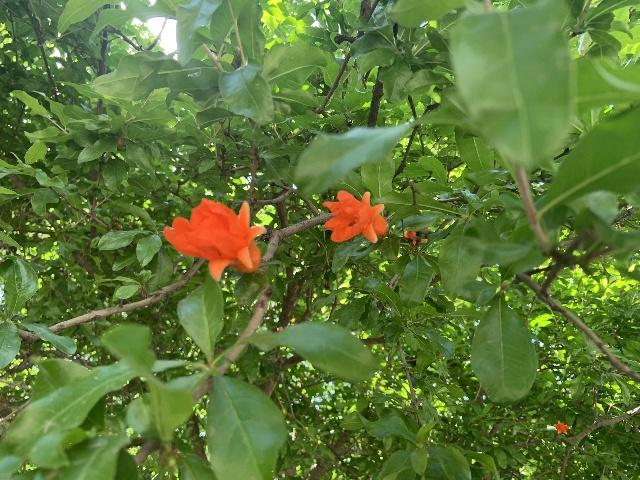flower: (162, 198, 264, 280), (322, 190, 387, 243), (404, 227, 429, 245), (553, 420, 569, 434)
